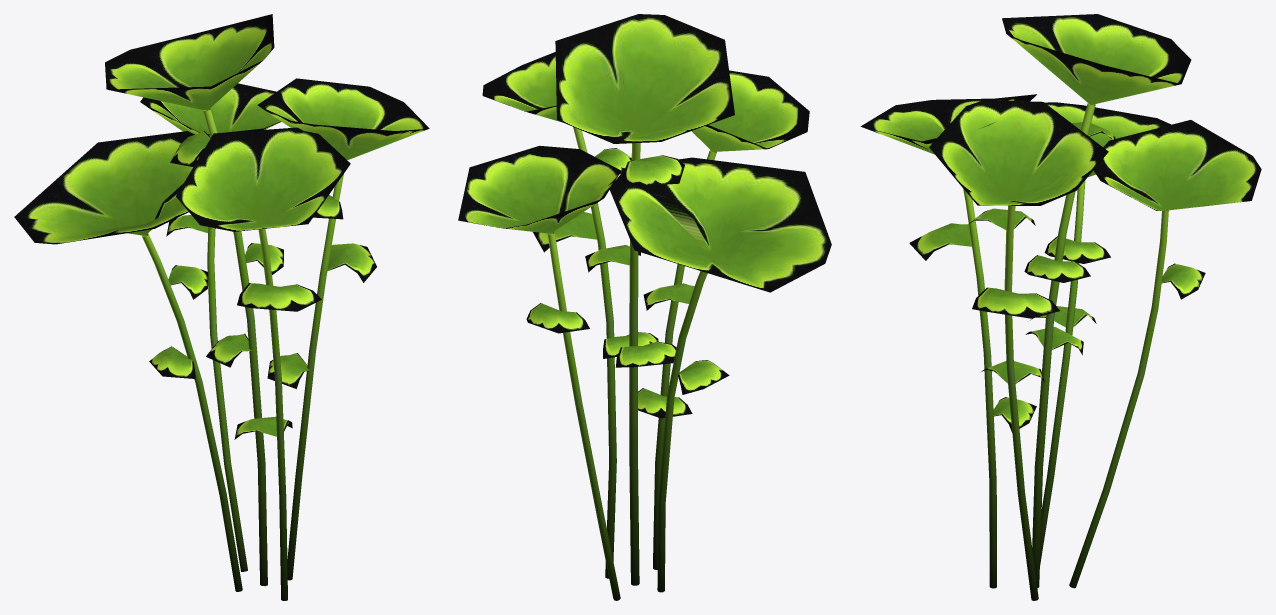
The model's file is clover_2.gltf.
The picture shows the model from 3 angles, left to right: view 1: azimuth 30°, elevation 25°; view 2: azimuth 150°, elevation 25°; view 3: azimuth 270°, elevation 25°; orthographic projection. The views are drawn at different scales.
Visible parts, largest first — view 1: Clover_2; view 2: Clover_2; view 3: Clover_2.
Part boxes in pixels (x1,y1,x2,y2): Clover_2: [14, 14, 429, 600]; Clover_2: [458, 14, 831, 600]; Clover_2: [860, 14, 1261, 600].
Bounding box in the file's own units: 0.8511 × 1.26 × 0.8366.
1 material, 1 textured.
